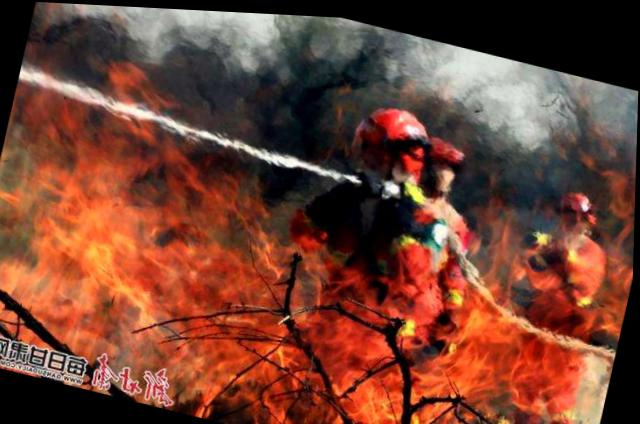fire: (0, 4, 639, 423)
